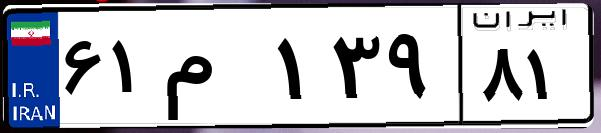1: (270, 28, 330, 110), (525, 38, 570, 115), (110, 28, 158, 98)
3: (330, 28, 385, 110)
6: (57, 26, 110, 100)
8: (475, 38, 525, 113)
9: (385, 28, 445, 110)
م: (158, 20, 270, 120)
